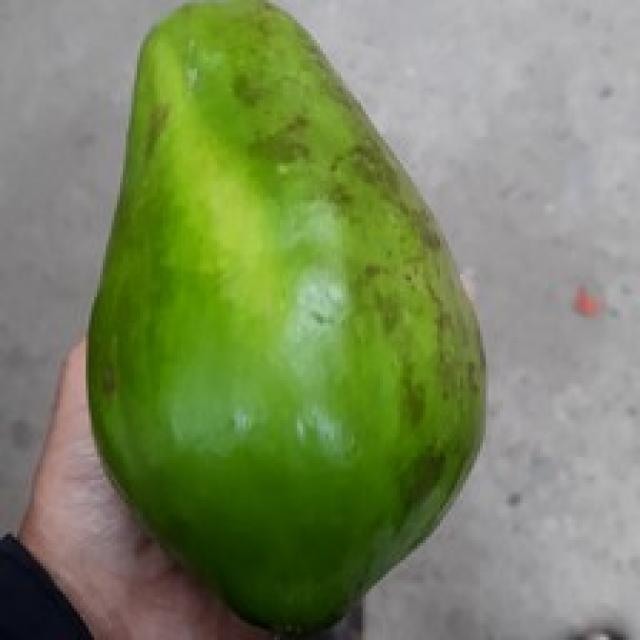Pepaya unrippen: (89, 5, 505, 639)
